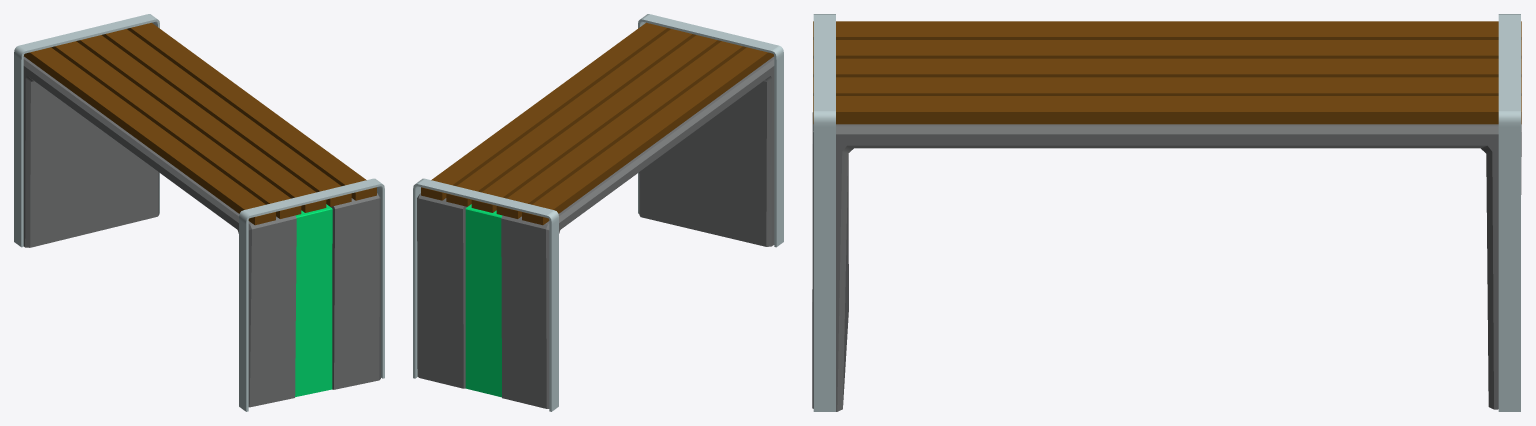
The model's file is Bench.fbx.
The picture shows the model from 3 angles, left to right: view 1: azimuth 30°, elevation 25°; view 2: azimuth 150°, elevation 25°; view 3: azimuth 270°, elevation 25°; orthographic projection. The views are drawn at different scales.
Visible parts, largest first — view 1: Bench; view 2: Bench; view 3: Bench.
Part boxes in pixels (box(x1,y1,x2,y2)): Bench: box(14, 14, 384, 411); Bench: box(413, 14, 783, 411); Bench: box(812, 14, 1521, 411).
Bounding box in the file's own units: 0.6875 × 0.9304 × 2.
